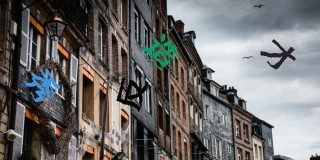反: (115, 77, 149, 112)
才: (260, 38, 296, 70)
秀: (23, 67, 60, 102)
造: (142, 34, 180, 71)
